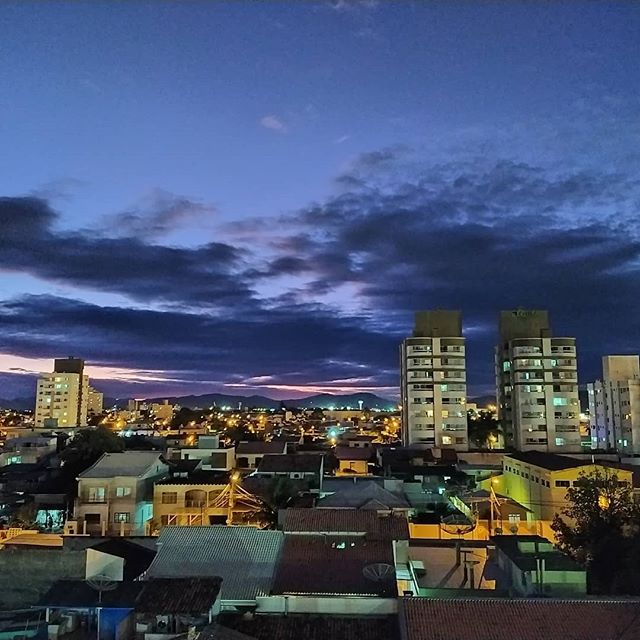building: (500, 309, 587, 447), (484, 447, 623, 522), (64, 445, 152, 543), (585, 356, 640, 451), (152, 471, 244, 523), (32, 362, 91, 431)
sky: (1, 1, 640, 353)
tree: (565, 472, 640, 571)
